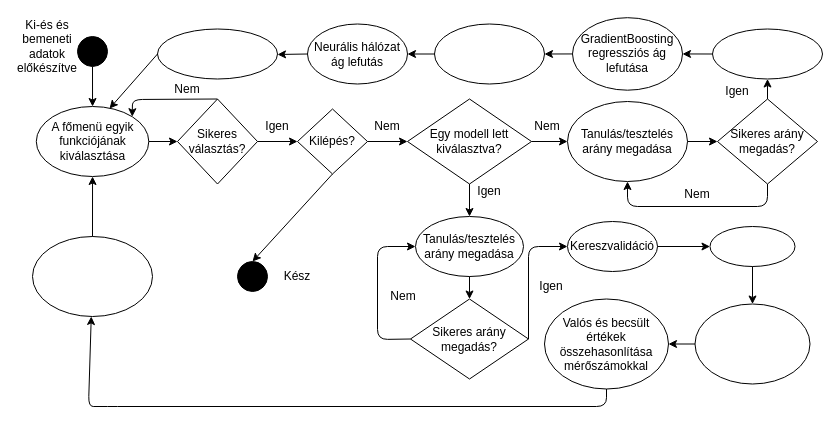
This 840x432 diagram has some shape labels left out. Each missing label, with the centre of its shape:
"Eredmények táblázatba gyűjtése" belongs at pixel 217 53.
"Modell betanítása" belongs at pixel 752 246.
"Osztályozási teljesítmény kiszámítása" belongs at pixel 92 276.
"Ridge regressziós ág lefutása" belongs at pixel 767 53.
"Tesztadatsor kimeneti értékeinek kiszámítása" belongs at pixel 752 343.
"Véletlen erdő regressziós ág lefutása" belongs at pixel 489 53.
